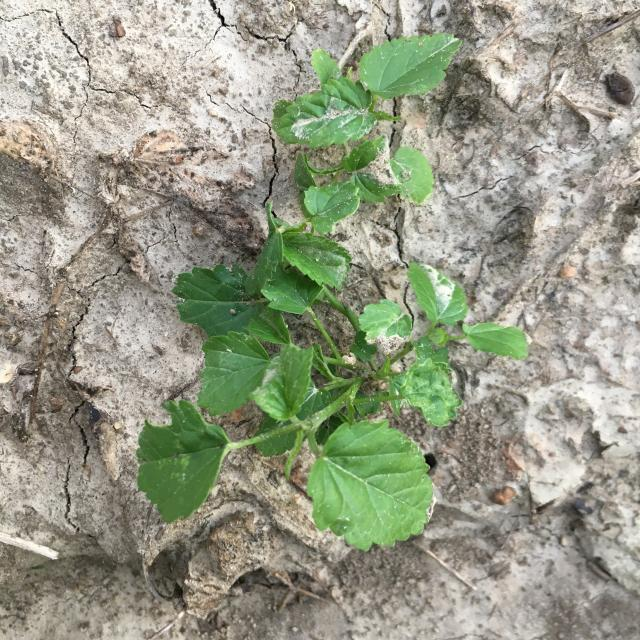PricklySida: (136, 180, 532, 552), (271, 32, 463, 206)
